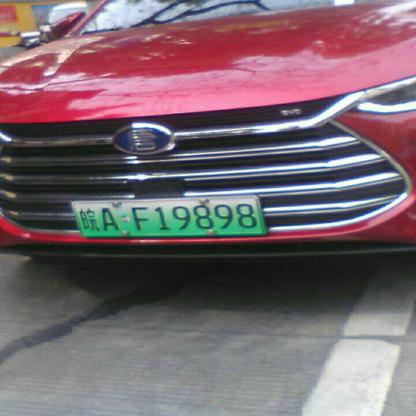lp: (73, 197, 263, 234)
